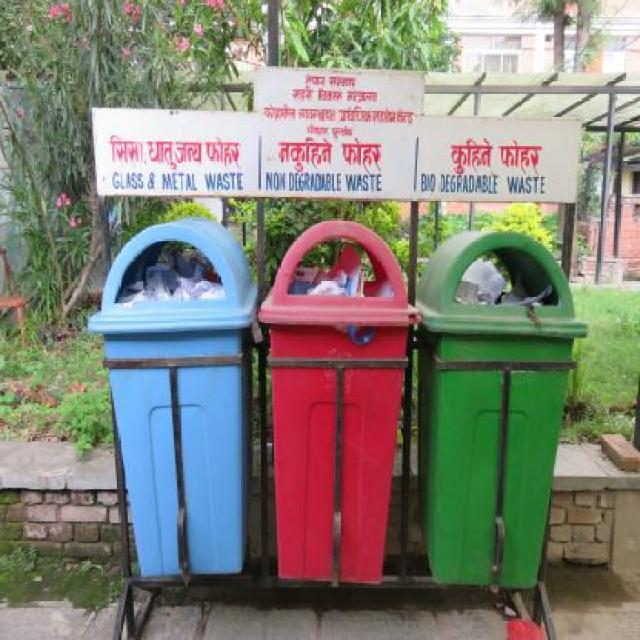garbage container: (84, 214, 270, 588), (413, 217, 592, 603), (258, 205, 417, 596)
